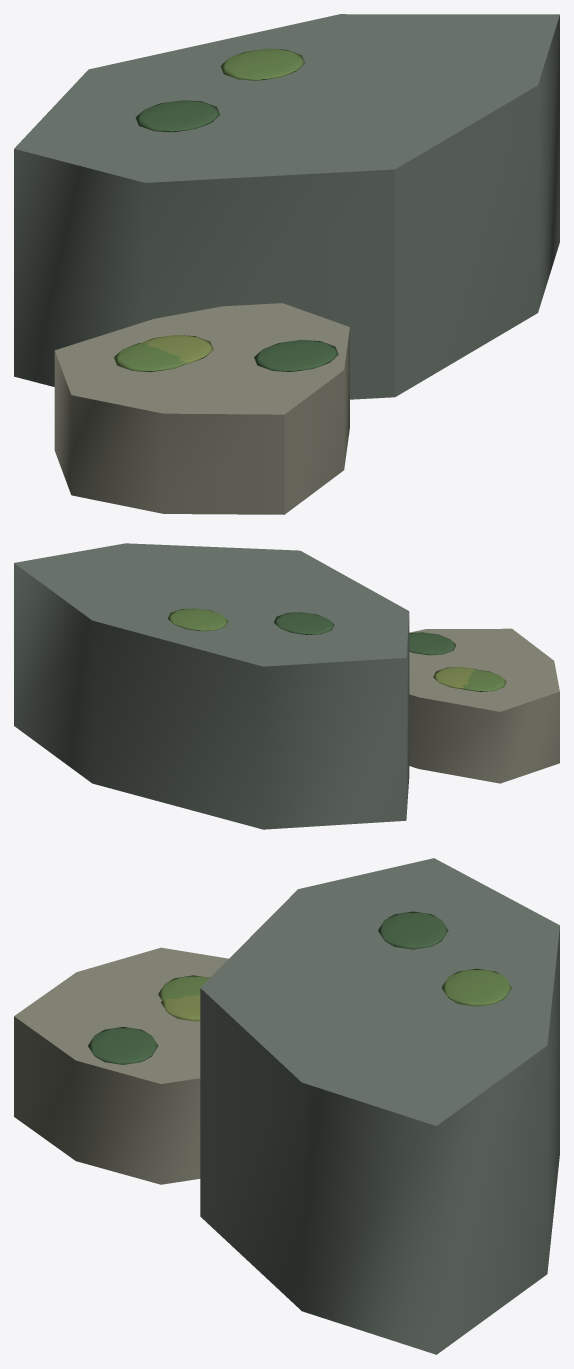
The picture shows the model from 3 angles, top to bottom: view 1: azimuth 30°, elevation 25°; view 2: azimuth 150°, elevation 25°; view 3: azimuth 270°, elevation 25°; orthographic projection. The views are drawn at different scales.
Parts seen in each view (by area): view 1: climb-rocks-2-0, climb-rocks-2-1, 바위 03; view 2: climb-rocks-2-0, climb-rocks-2-1, 바위 03; view 3: climb-rocks-2-0, climb-rocks-2-1, 바위 03.
Boxes of the visible parts, box(x1,y1,x2,y2) form: climb-rocks-2-0: box(14, 14, 559, 399); climb-rocks-2-1: box(54, 303, 349, 514); 바위 03: box(114, 48, 338, 372); climb-rocks-2-0: box(14, 543, 409, 829); climb-rocks-2-1: box(409, 628, 559, 783); 바위 03: box(168, 608, 506, 691); climb-rocks-2-0: box(200, 858, 559, 1354); climb-rocks-2-1: box(14, 947, 228, 1184); 바위 03: box(88, 911, 511, 1064).
Size of the model in its own units: 3.69 by 1.32 by 2.78.
